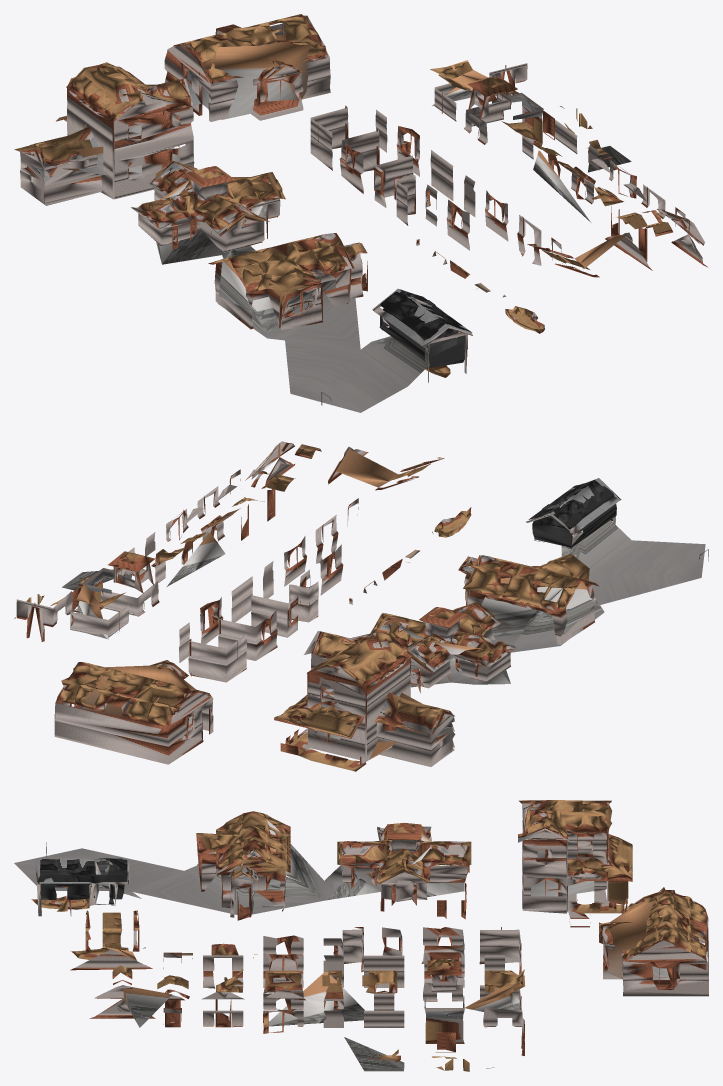
The model's file is modular_house.glb.
3 views of the same model, one above another, from view 1: azimuth 30°, elevation 25°; view 2: azimuth 150°, elevation 25°; view 3: azimuth 270°, elevation 25° (orthographic). The views are drawn at different scales.
Parts seen in each view (by area): view 1: body; view 2: body; view 3: body.
Boxes of the visible parts, x1,y1,x2,y2 form: body: (14,14,707,412); body: (14,441,708,771); body: (14,800,708,1071).
Bounding box in the file's own units: 13.29 × 2.78 × 17.58.
5 materials, 3 textured.
